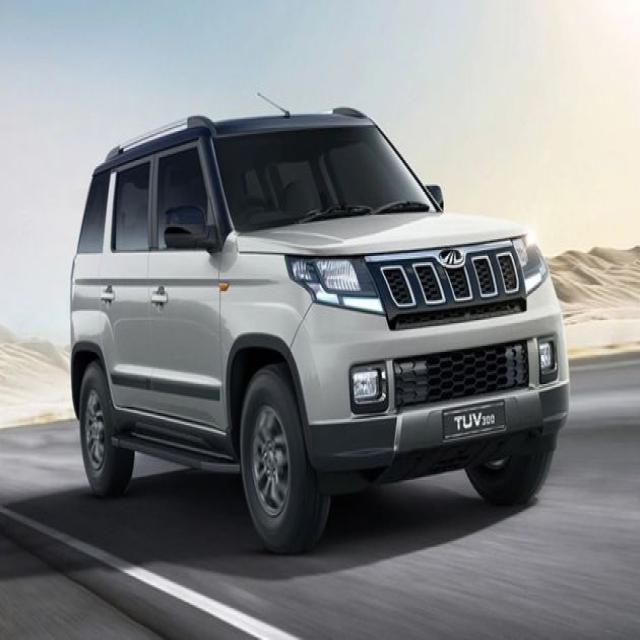light_vehicle: (66, 107, 562, 541)
